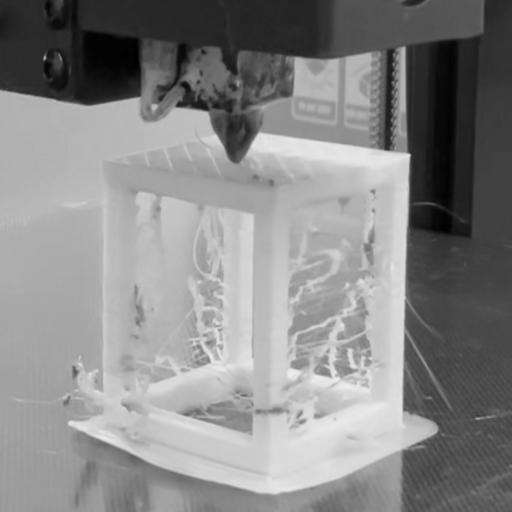spaghetti_and_stringing: (138, 196, 258, 428), (288, 207, 386, 410), (32, 337, 112, 412)
warp: (48, 418, 208, 478), (215, 460, 326, 504)
